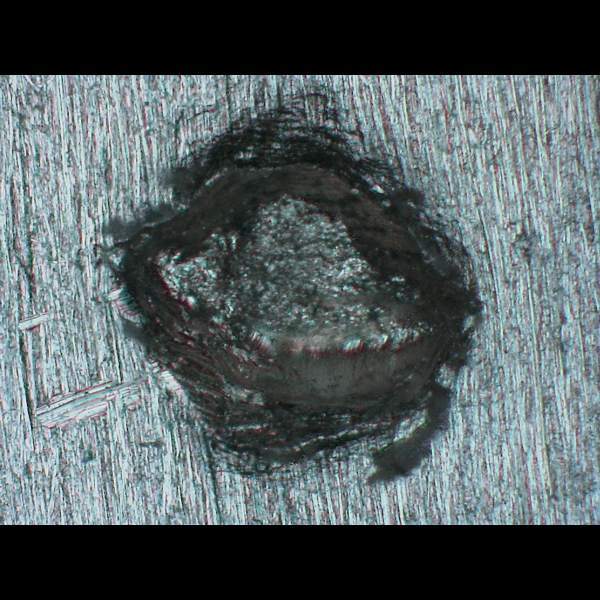d: (77, 80, 488, 500)
